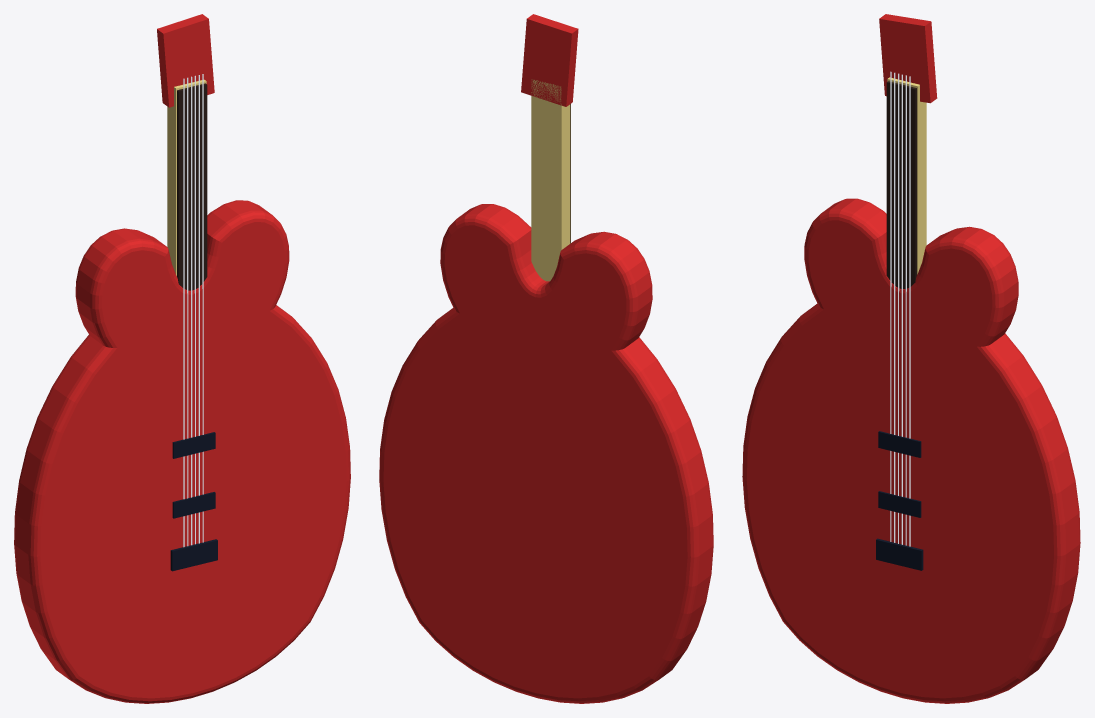
The model's file is guitar.glb.
3 views of the same model, side by side, from view 1: azimuth 30°, elevation 25°; view 2: azimuth 150°, elevation 25°; view 3: azimuth 330°, elevation 25° (orthographic).
Parts seen in each view (by area): view 1: Guitar_Body, object 4, object 5, object 3, object 8, object 9, object 10, object 11, object 13, object 14, object 7, object 6 (+1 smaller); view 2: Guitar_Body, object 3, object 5; view 3: Guitar_Body, object 4, object 5, object 3, object 8, object 14, object 13, object 10, object 12, object 9, object 6, object 7 (+1 smaller).
Part boxes in pixels (left/top/right/bottom): Guitar_Body: left=14, top=200, right=350, bottom=703; object 4: left=177, top=83, right=207, bottom=290; object 5: left=157, top=14, right=214, bottom=107; object 3: left=167, top=79, right=206, bottom=275; object 8: left=170, top=539, right=217, bottom=571; object 9: left=183, top=78, right=184, bottom=547; object 10: left=187, top=77, right=188, bottom=546; object 11: left=191, top=76, right=192, bottom=545; object 13: left=198, top=75, right=199, bottom=543; object 14: left=202, top=74, right=203, bottom=542; object 7: left=172, top=492, right=215, bottom=518; object 6: left=172, top=432, right=215, bottom=458; Guitar_Body: left=379, top=204, right=713, bottom=703; object 3: left=531, top=79, right=570, bottom=281; object 5: left=521, top=14, right=578, bottom=106; Guitar_Body: left=742, top=198, right=1080, bottom=703; object 4: left=886, top=81, right=916, bottom=289; object 5: left=879, top=14, right=937, bottom=103; object 3: left=887, top=77, right=926, bottom=274; object 8: left=876, top=538, right=923, bottom=570; object 14: left=909, top=76, right=910, bottom=546; object 13: left=905, top=75, right=906, bottom=545; object 10: left=894, top=72, right=895, bottom=542; object 12: left=901, top=74, right=902, bottom=544; object 9: left=890, top=71, right=891, bottom=541; object 6: left=878, top=431, right=921, bottom=457; object 7: left=878, top=491, right=921, bottom=517.
Size of the model in its own units: 1.69 by 3.38 by 0.215.
